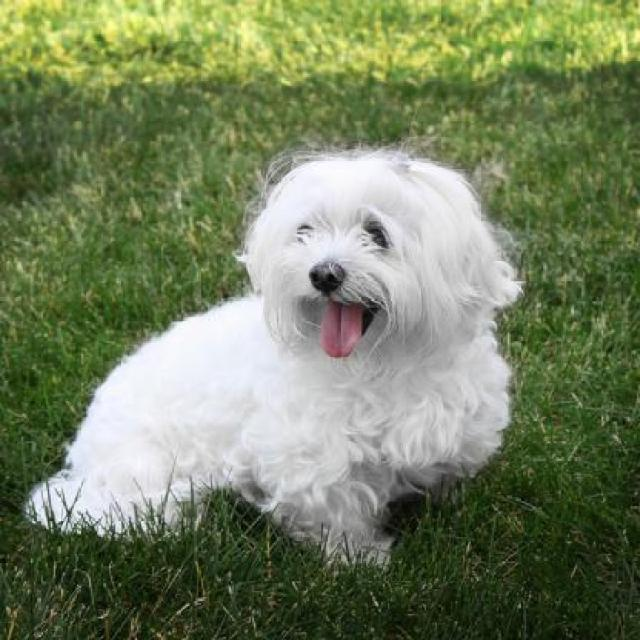Dog: (25, 131, 523, 578)
